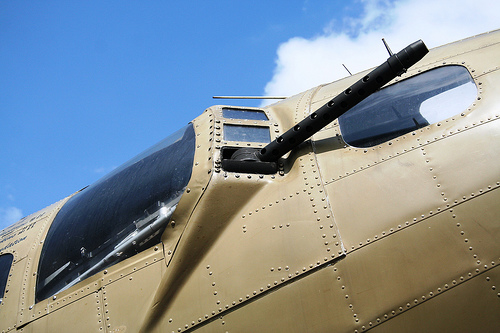rifle: (243, 37, 425, 162)
